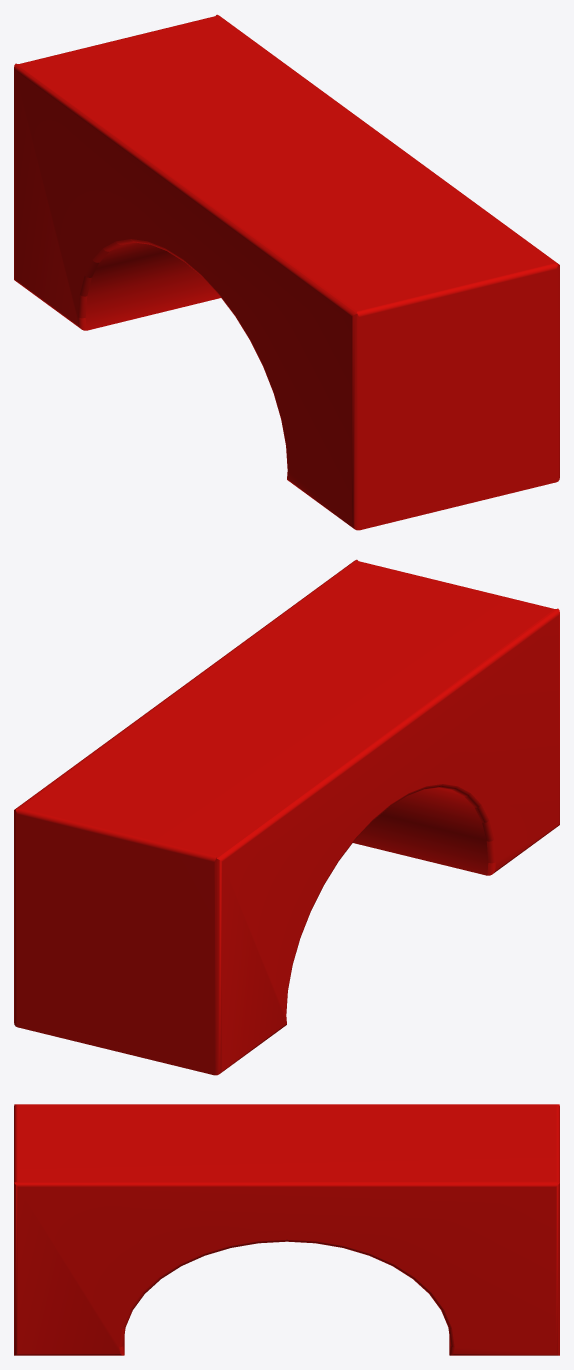
The model's file is Brücke.fbx.
The picture shows the model from 3 angles, top to bottom: view 1: azimuth 30°, elevation 25°; view 2: azimuth 150°, elevation 25°; view 3: azimuth 270°, elevation 25°; orthographic projection. The views are drawn at different scales.
Visible parts, largest first — view 1: Brücke; view 2: Brücke; view 3: Brücke.
Boxes of the visible parts, <box> form: Brücke: <box>14,14,559,530</box>; Brücke: <box>14,559,559,1075</box>; Brücke: <box>14,1104,559,1355</box>.
Bounding box in the file's own units: 25 × 25 × 71.28.
